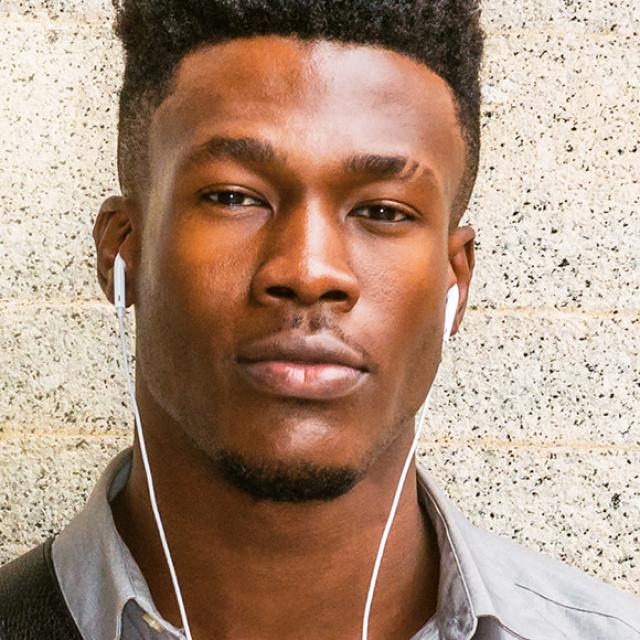beard: (213, 451, 359, 504)
hair: (115, 0, 486, 214)
